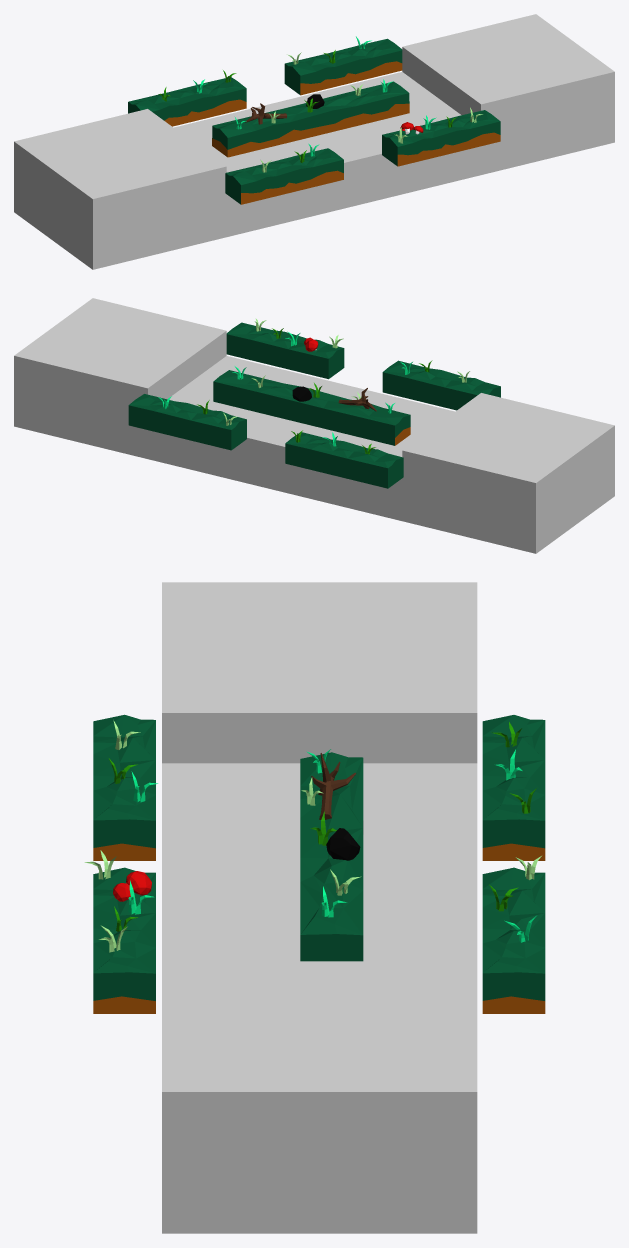
The model's file is VHard_Obstacle_Forest_11.fbx.
The picture shows the model from 3 angles, top to bottom: view 1: azimuth 30°, elevation 25°; view 2: azimuth 150°, elevation 25°; view 3: azimuth 270°, elevation 25°; orthographic projection. The views are drawn at different scales.
Visible parts, largest first — view 1: Cube, Icosphere.018; view 2: Cube, Icosphere.018; view 3: Cube, Icosphere.018.
Boxes of the visible parts, bbox=[...] form: Cube: bbox=[14, 14, 614, 269]; Icosphere.018: bbox=[128, 36, 500, 204]; Cube: bbox=[14, 298, 614, 553]; Icosphere.018: bbox=[128, 318, 500, 488]; Cube: bbox=[162, 582, 477, 1233]; Icosphere.018: bbox=[84, 714, 545, 1013].
Size of the model in its own units: 10231 by 1627 by 3918.
